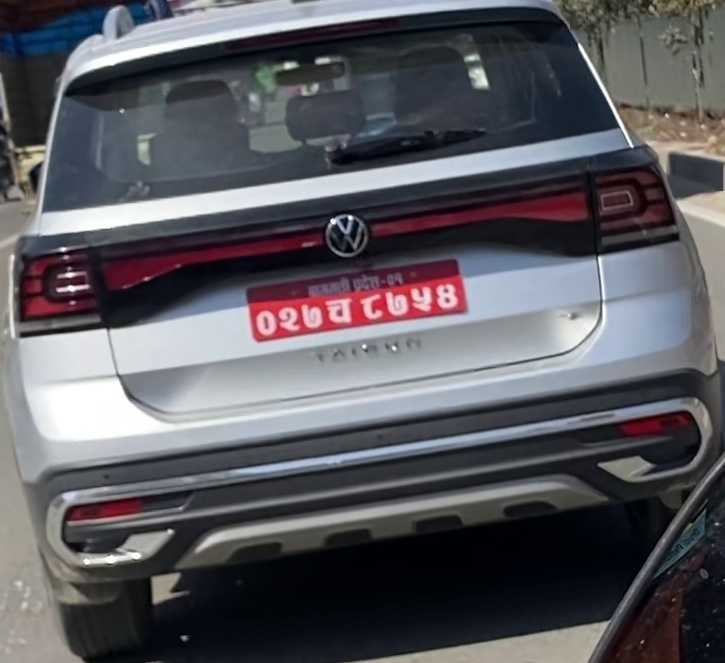license_plate: (247, 268, 468, 343)
